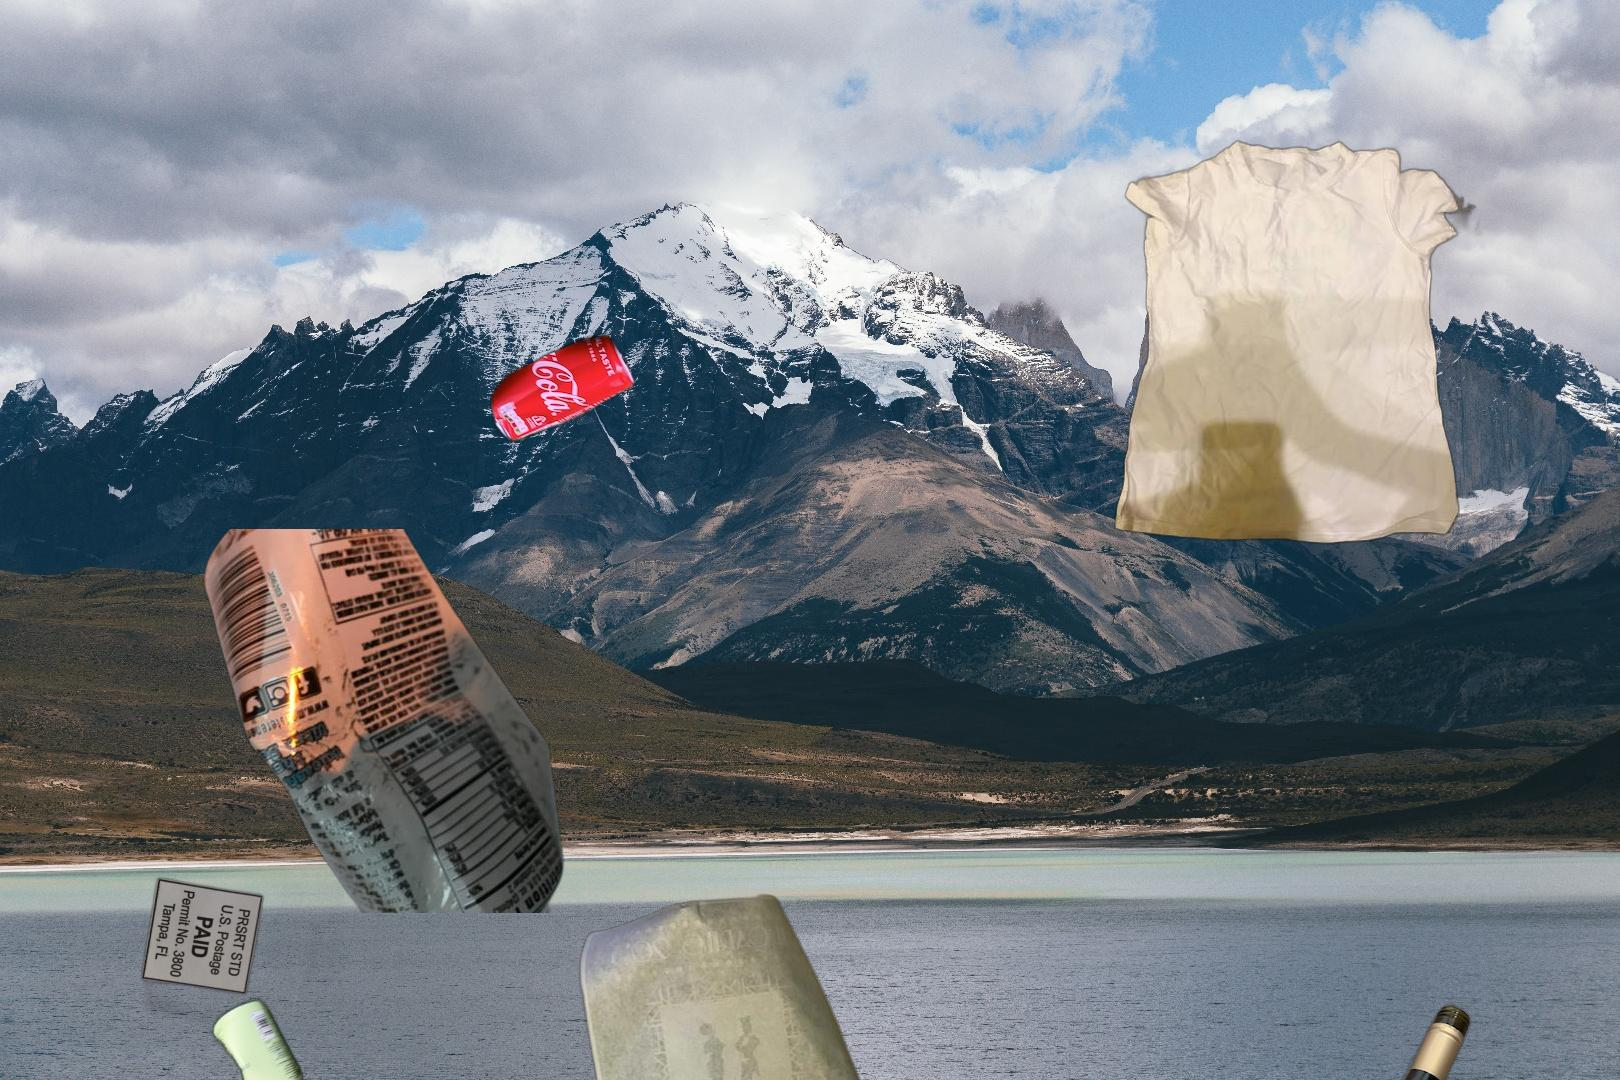clothes: (1111, 136, 1486, 548)
glass: (1239, 998, 1475, 1080)
metal-cans: (199, 529, 568, 912), (486, 329, 640, 447), (209, 994, 309, 1080)
paper: (575, 891, 881, 1080), (134, 800, 344, 1040)
